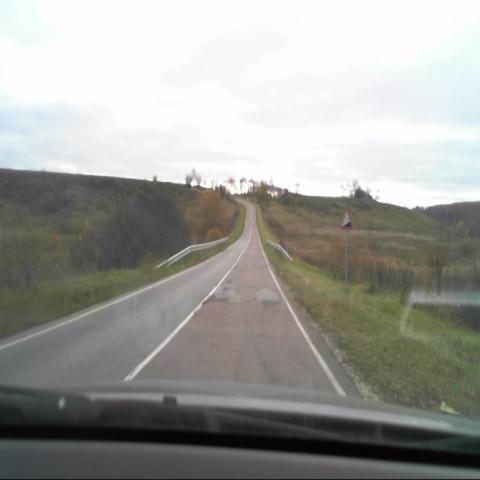1_14: (338, 208, 354, 230)
